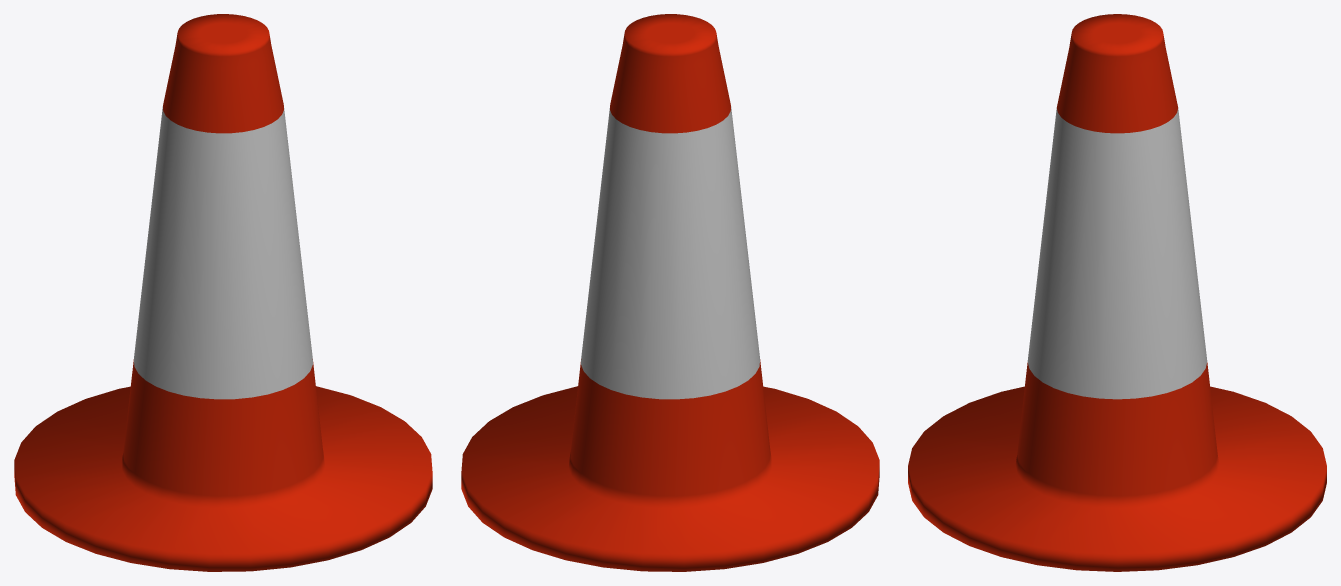
3 views of the same model, side by side, from view 1: azimuth 30°, elevation 25°; view 2: azimuth 150°, elevation 25°; view 3: azimuth 270°, elevation 25° (orthographic).
Parts seen in each view (by area): view 1: orange, white; view 2: orange, white; view 3: orange, white.
Part boxes in pixels (bbox=[...]): orange: bbox=[14, 14, 432, 571]; white: bbox=[134, 106, 312, 399]; orange: bbox=[461, 14, 879, 571]; white: bbox=[581, 106, 759, 399]; orange: bbox=[908, 14, 1326, 571]; white: bbox=[1027, 108, 1207, 399].
Bounding box in the file's own units: 2.49 × 2.96 × 2.49.
